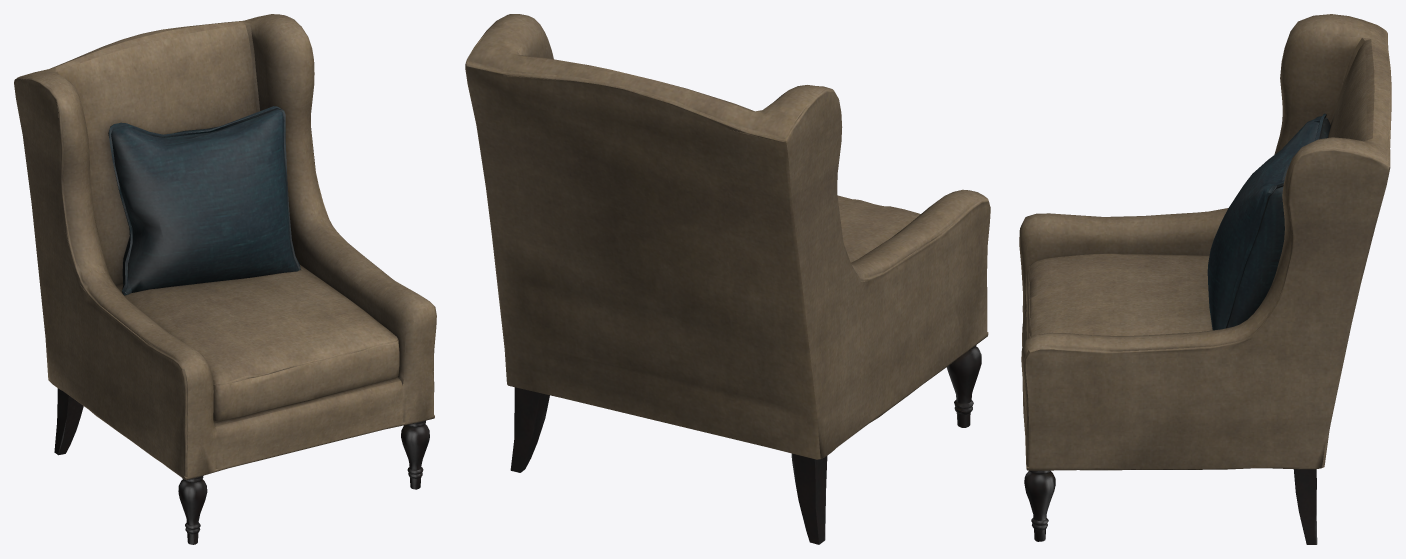
The model's file is raw_model.obj.
3 views of the same model, side by side, from view 1: azimuth 30°, elevation 25°; view 2: azimuth 150°, elevation 25°; view 3: azimuth 270°, elevation 25° (orthographic). The views are drawn at different scales.
Visible parts, largest first — view 1: solid_002, solid_003, solid_001; view 2: solid_002, solid_001; view 3: solid_002, solid_003, solid_001.
Boxes of the visible parts, <box> form: solid_002: <box>14,14,436,480</box>; solid_003: <box>108,106,300,295</box>; solid_001: <box>54,388,429,544</box>; solid_002: <box>465,14,990,459</box>; solid_001: <box>510,345,981,544</box>; solid_002: <box>1019,14,1391,470</box>; solid_003: <box>1207,113,1330,330</box>; solid_001: <box>1024,469,1317,544</box>.
Size of the model in its own units: 0.7425 by 1.01 by 0.8528.
1 material, 1 textured.
